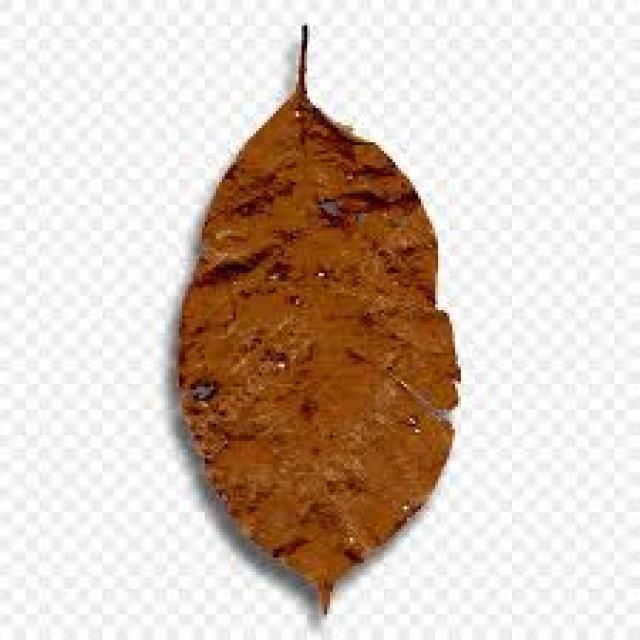leaf: (175, 23, 460, 614)
